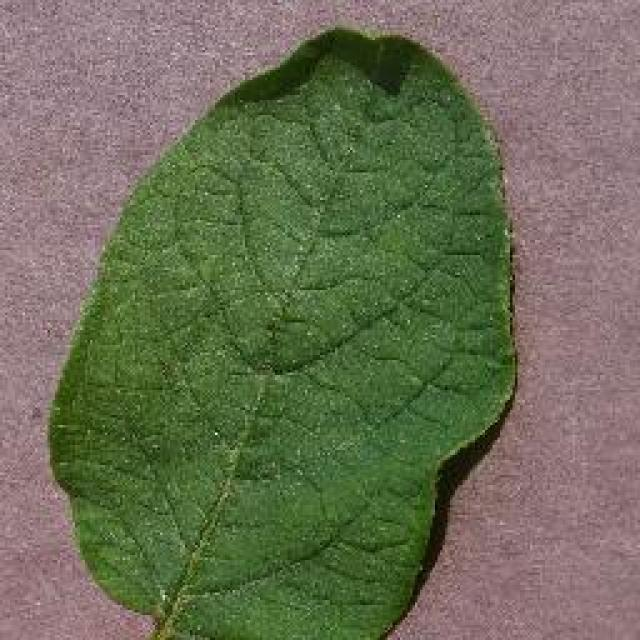Potato: (45, 22, 517, 638)
